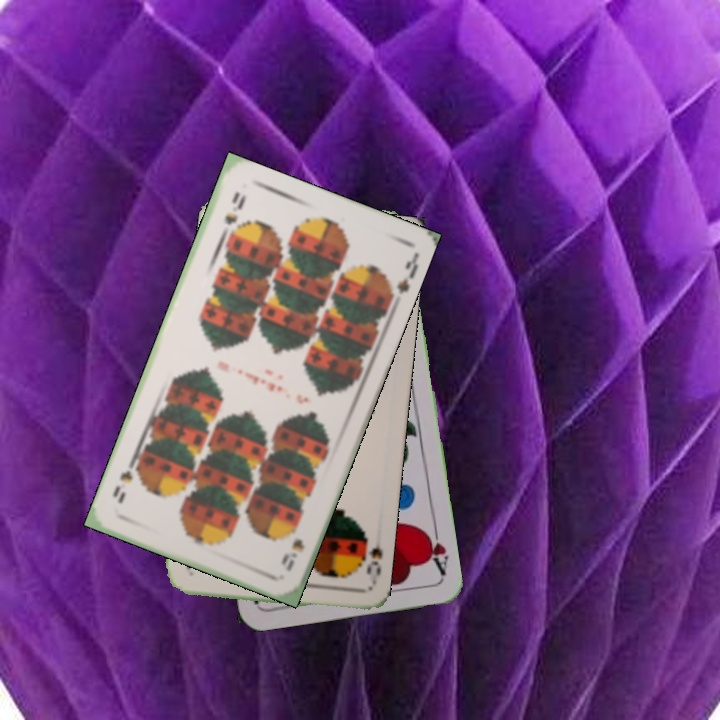HA: (419, 519, 451, 578)
S9: (277, 535, 308, 574), (220, 187, 248, 228)
SO: (357, 528, 385, 589)
